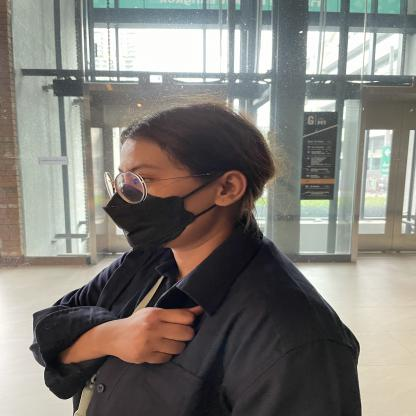Sadness: (37, 276, 232, 380)
